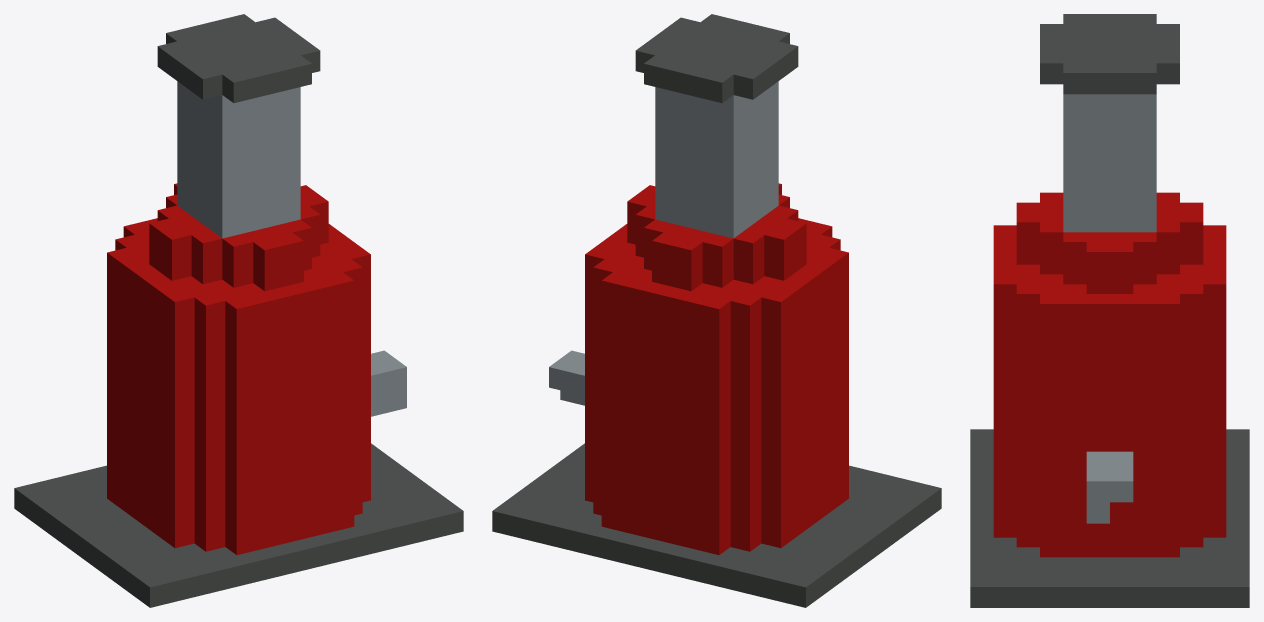
The model's file is bottle_jack.glb.
3 renders of one model, left to right at view 1: azimuth 30°, elevation 25°; view 2: azimuth 150°, elevation 25°; view 3: azimuth 270°, elevation 25°, orthographic. The views are drawn at different scales.
Visible parts, largest first — view 1: jack:bottleJack; view 2: jack:bottleJack; view 3: jack:bottleJack.
Boxes of the visible parts, box(x1,y1,x2,y2) form: jack:bottleJack: box(14, 14, 463, 607); jack:bottleJack: box(492, 14, 941, 607); jack:bottleJack: box(970, 14, 1249, 607).
Size of the model in its own units: 0.16 by 0.23 by 0.12.
